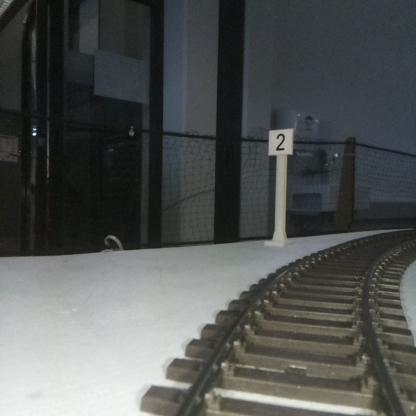white-info-2: (268, 128, 292, 246)
